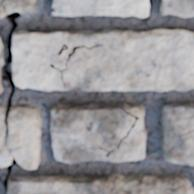brick: (12, 29, 193, 90), (50, 102, 145, 163), (7, 174, 193, 193), (160, 103, 193, 164), (53, 0, 148, 17), (161, 0, 193, 16), (0, 36, 3, 72)
broken_brick: (0, 104, 43, 170), (0, 0, 38, 14), (0, 6, 3, 18)
crack: (0, 2, 21, 191), (48, 43, 104, 89), (52, 6, 56, 13)
